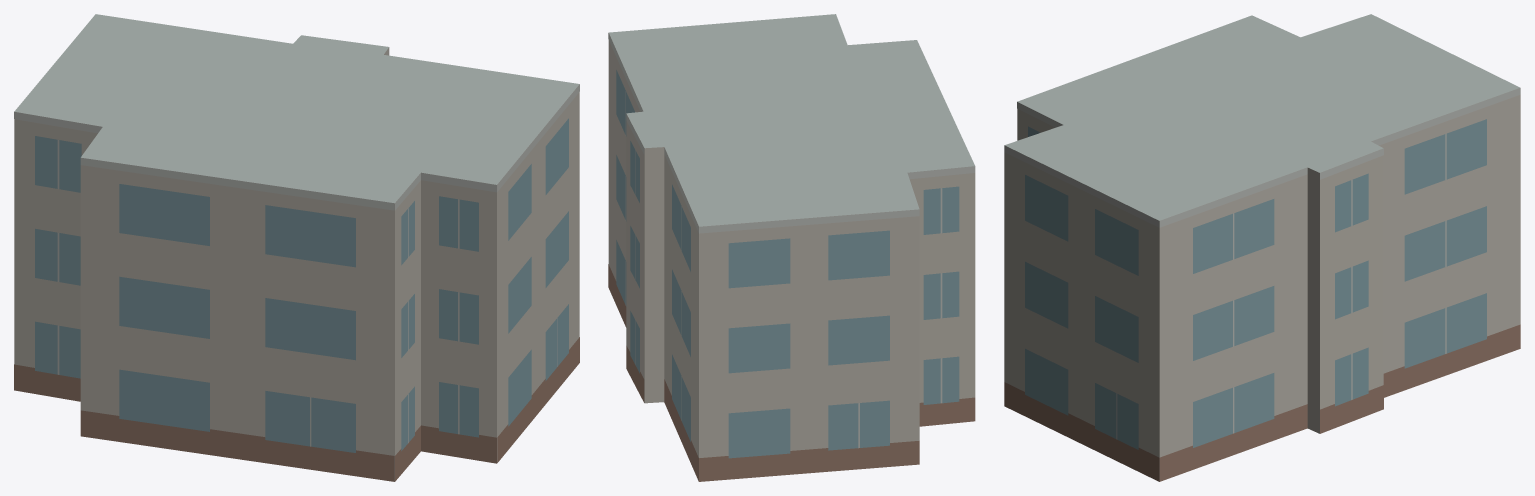
Rendered from survey-upis-32688500.glb.
3 renders of one model, left to right at view 1: azimuth 30°, elevation 25°; view 2: azimuth 150°, elevation 25°; view 3: azimuth 270°, elevation 25°, orthographic. The views are drawn at different scales.
Visible parts, largest first — view 1: survey-upis-32688500.tmp; view 2: survey-upis-32688500.tmp; view 3: survey-upis-32688500.tmp.
Boxes of the visible parts, x1,y1,x2,y2 form: survey-upis-32688500.tmp: (14, 14, 579, 481); survey-upis-32688500.tmp: (608, 14, 975, 481); survey-upis-32688500.tmp: (1004, 14, 1520, 481).
Size of the model in its own units: 15.56 by 9.15 by 16.41.
